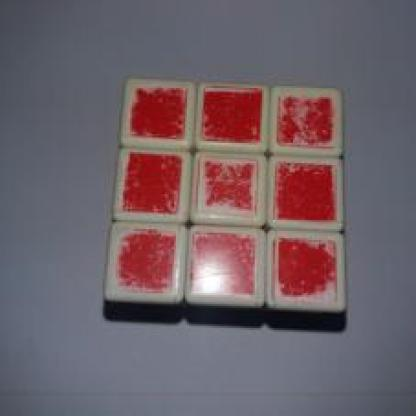cube: (122, 69, 351, 329)
